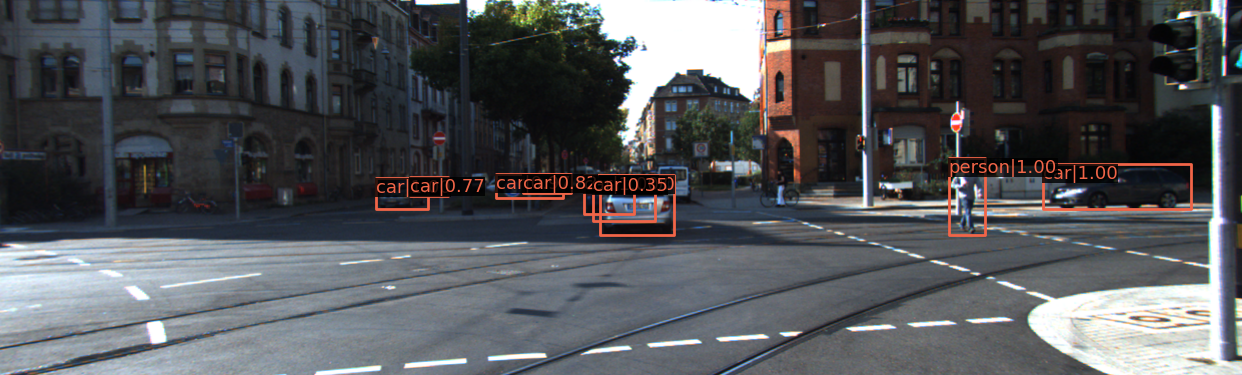car: (1045, 169, 1194, 211), (603, 178, 674, 235), (584, 176, 628, 216), (375, 178, 427, 209)
person: (951, 157, 983, 233), (532, 168, 546, 210)
